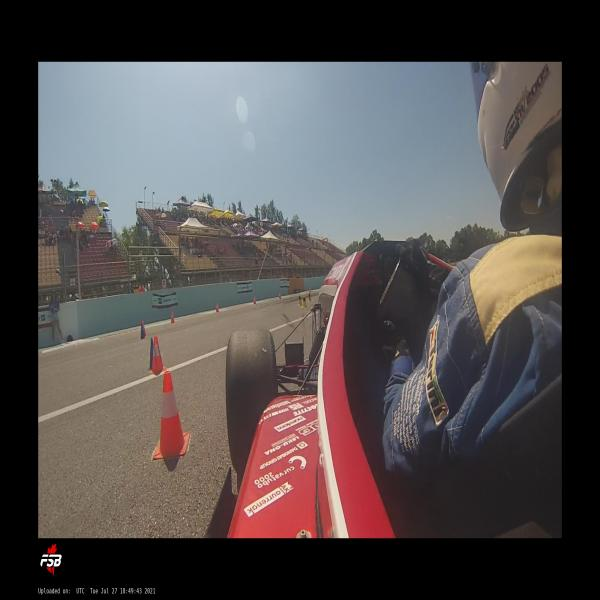orange_cone: (153, 371, 190, 460), (148, 335, 167, 376), (142, 320, 146, 337), (171, 310, 175, 324), (215, 302, 220, 313), (307, 291, 312, 301), (278, 292, 282, 300), (138, 285, 142, 292), (253, 296, 256, 305), (142, 284, 145, 292), (309, 287, 312, 293)
unknown_cone: (147, 337, 153, 369), (140, 323, 145, 340), (127, 284, 131, 294), (131, 284, 134, 294)
yellow_cone: (301, 295, 308, 308), (298, 293, 302, 305), (136, 284, 139, 294), (133, 283, 136, 293)
